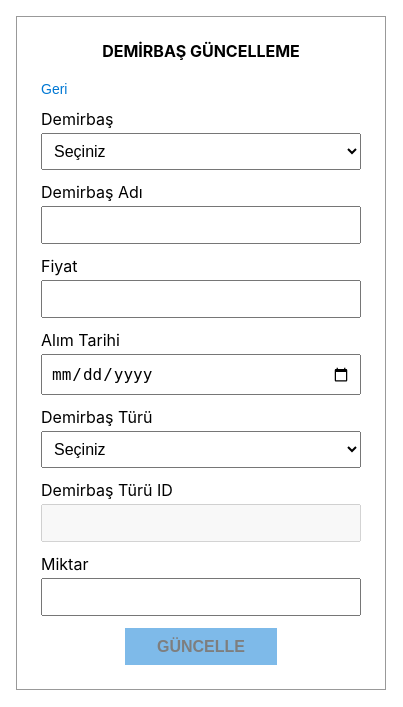
Test: StockUpdate › AC-2: selecting an asset populates all fields with its current values
Select "Laptop" in the dropdown labelled "Demirbaş": (201, 152) [41, 133, 361, 170]
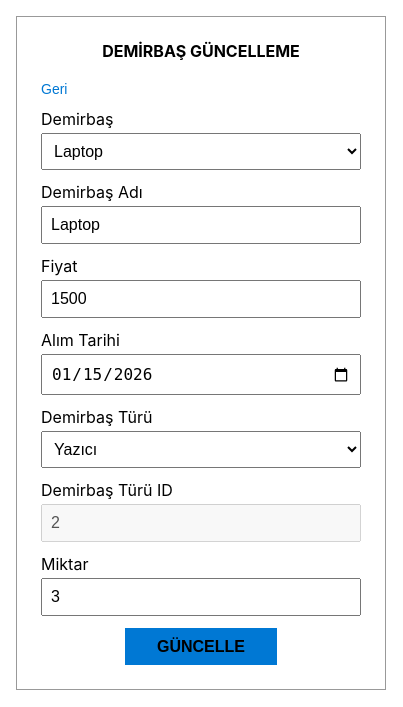
Check: the field labelled "Demirbaş Adı" holds "Laptop", box [41, 206, 361, 244]
Check: the field labelled "Fiyat" holds "1500", box [41, 280, 361, 318]
Check: the date field labelled "Alım Tarihi" holds "2026-01-15", box [41, 354, 361, 395]
